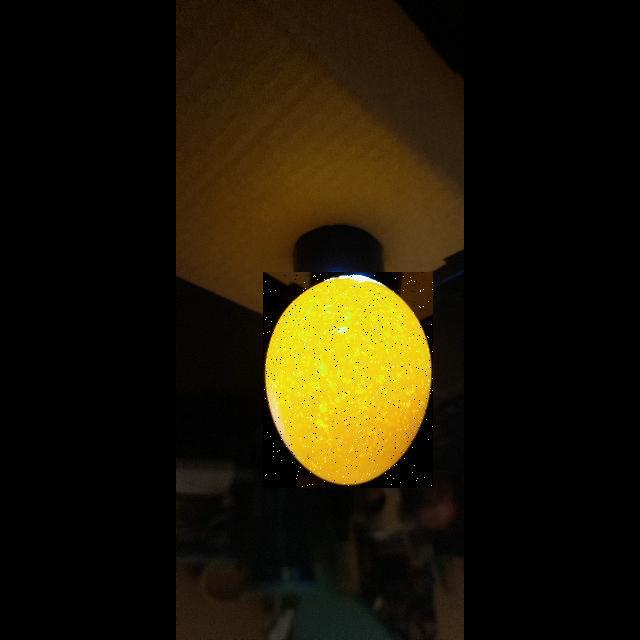A - Good: (262, 270, 431, 488)
